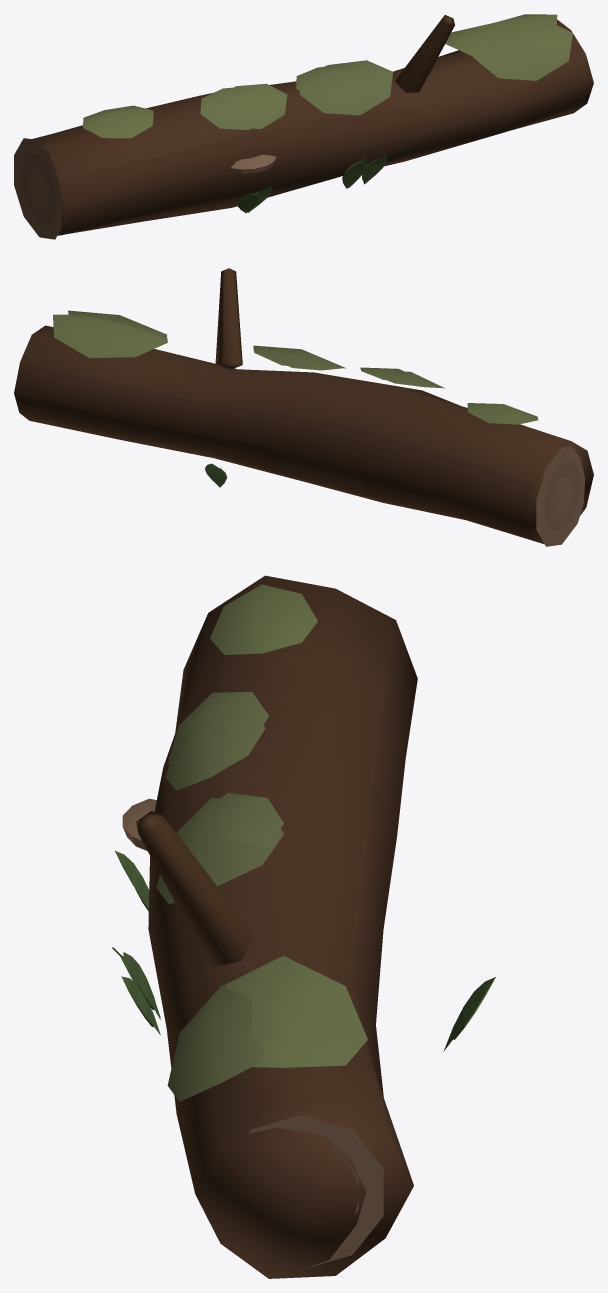
Rendered from prop_fallen_log_a.glb.
The picture shows the model from 3 angles, top to bottom: view 1: azimuth 30°, elevation 25°; view 2: azimuth 150°, elevation 25°; view 3: azimuth 270°, elevation 25°; orthographic projection. The views are drawn at different scales.
Parts seen in each view (by area): view 1: prop_fallen_log_a_mesh; view 2: prop_fallen_log_a_mesh; view 3: prop_fallen_log_a_mesh.
Boxes of the visible parts, x1,y1,x2,y2 form: prop_fallen_log_a_mesh: (14, 14, 593, 239); prop_fallen_log_a_mesh: (14, 268, 593, 546); prop_fallen_log_a_mesh: (112, 575, 495, 1278).
Bounding box in the file's own units: 2.98 × 0.8381 × 0.9255.
